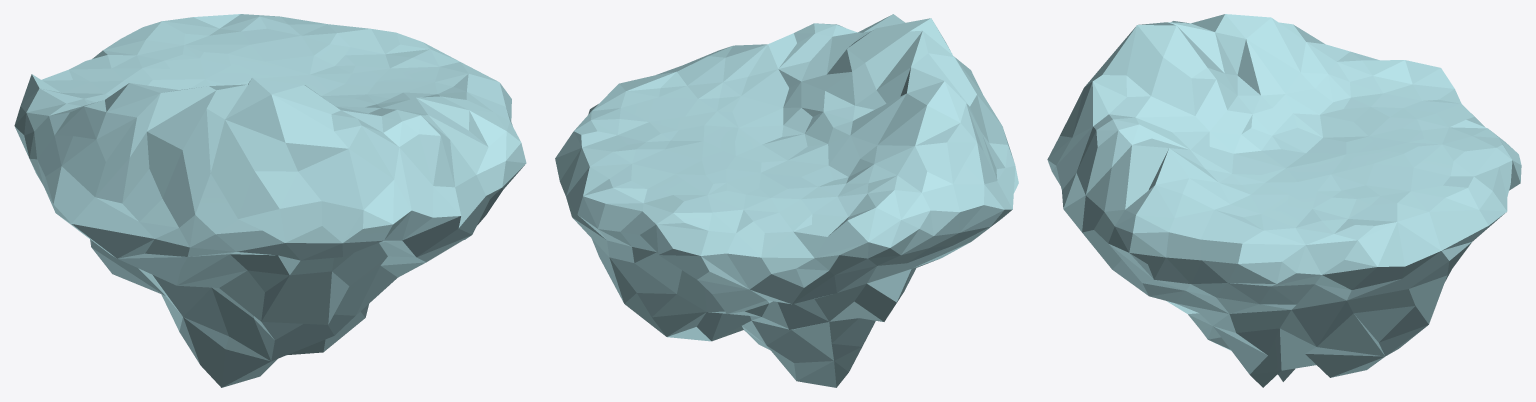
The model's file is iceberg1.fbx.
3 renders of one model, left to right at view 1: azimuth 30°, elevation 25°; view 2: azimuth 150°, elevation 25°; view 3: azimuth 270°, elevation 25°, orthographic. The views are drawn at different scales.
Parts seen in each view (by area): view 1: Iceberg; view 2: Iceberg; view 3: Iceberg.
Boxes of the visible parts, x1=… form: Iceberg: x1=14, y1=14, x2=526, y2=387; Iceberg: x1=555, y1=14, x2=1018, y2=387; Iceberg: x1=1047, y1=14, x2=1521, y2=387.
Bounding box in the file's own units: 826 × 626 × 822.
